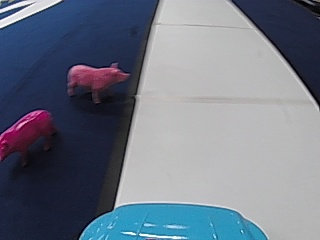pig: (2, 105, 55, 166), (65, 58, 128, 104)
